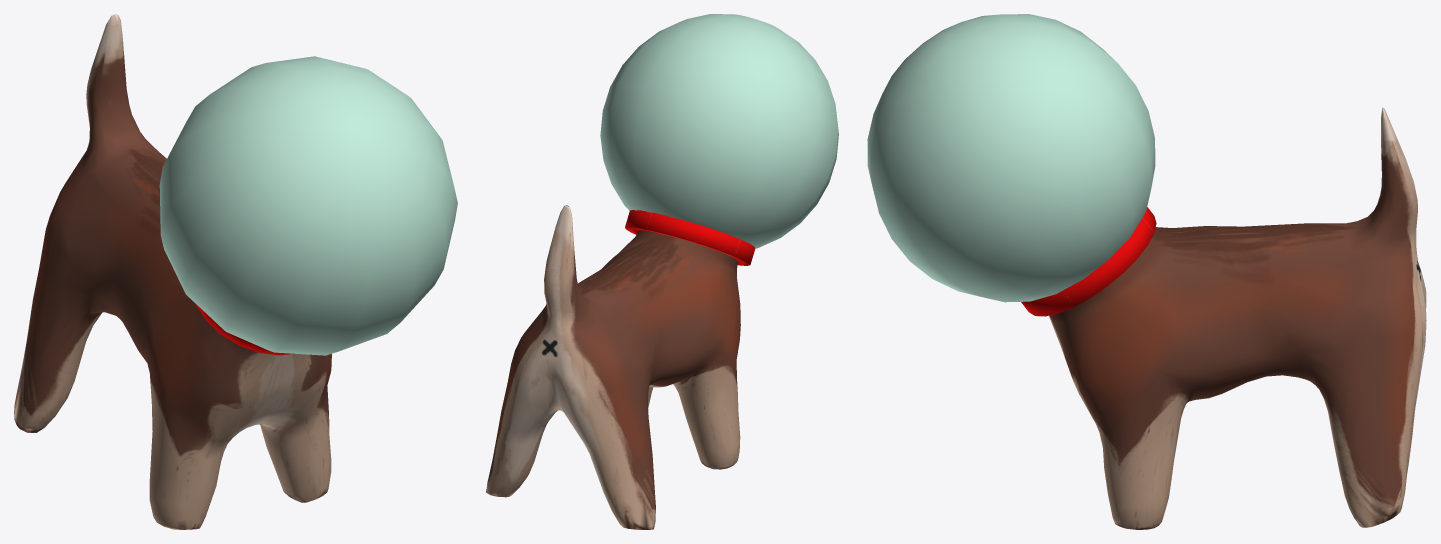
The model's file is space_dog.obj.
The picture shows the model from 3 angles, left to right: view 1: azimuth 30°, elevation 25°; view 2: azimuth 150°, elevation 25°; view 3: azimuth 270°, elevation 25°; orthographic projection. The views are drawn at different scales.
Parts seen in each view (by area): view 1: helmet_mat0_helmet, dog_mat0_dog, Collar_mat0_Collar; view 2: dog_mat0_dog, helmet_mat0_helmet, Collar_mat0_Collar; view 3: dog_mat0_dog, helmet_mat0_helmet, Collar_mat0_Collar.
Part boxes in pixels (x1,y1,x2,y2): helmet_mat0_helmet: (159,56,457,355); dog_mat0_dog: (14,14,331,529); Collar_mat0_Collar: (194,303,294,355); dog_mat0_dog: (486,205,740,529); helmet_mat0_helmet: (600,14,838,248); Collar_mat0_Collar: (625,210,755,265); dog_mat0_dog: (1049,107,1426,529); helmet_mat0_helmet: (867,14,1155,302); Collar_mat0_Collar: (1021,207,1156,316).
Size of the model in its own units: 1.36 by 2.46 by 2.66.
